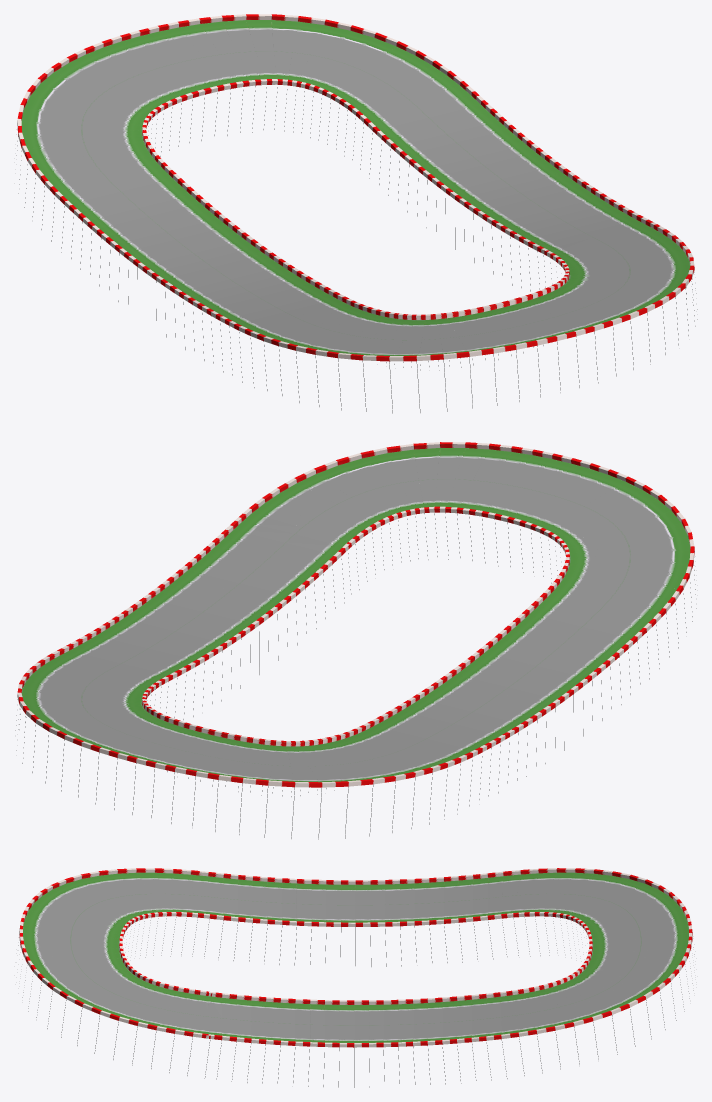
File: courseMk2.obj
The picture shows the model from 3 angles, top to bottom: view 1: azimuth 30°, elevation 25°; view 2: azimuth 150°, elevation 25°; view 3: azimuth 270°, elevation 25°; orthographic projection. The views are drawn at different scales.
Parts seen in each view (by area): view 1: Course_Cube.001; view 2: Course_Cube.001; view 3: Course_Cube.001.
Part boxes in pixels (bbox=[...]): Course_Cube.001: bbox=[16, 14, 697, 413]; Course_Cube.001: bbox=[15, 442, 696, 839]; Course_Cube.001: bbox=[18, 868, 694, 1087].
Bounding box in the file's own units: 398 × 83.28 × 702.
